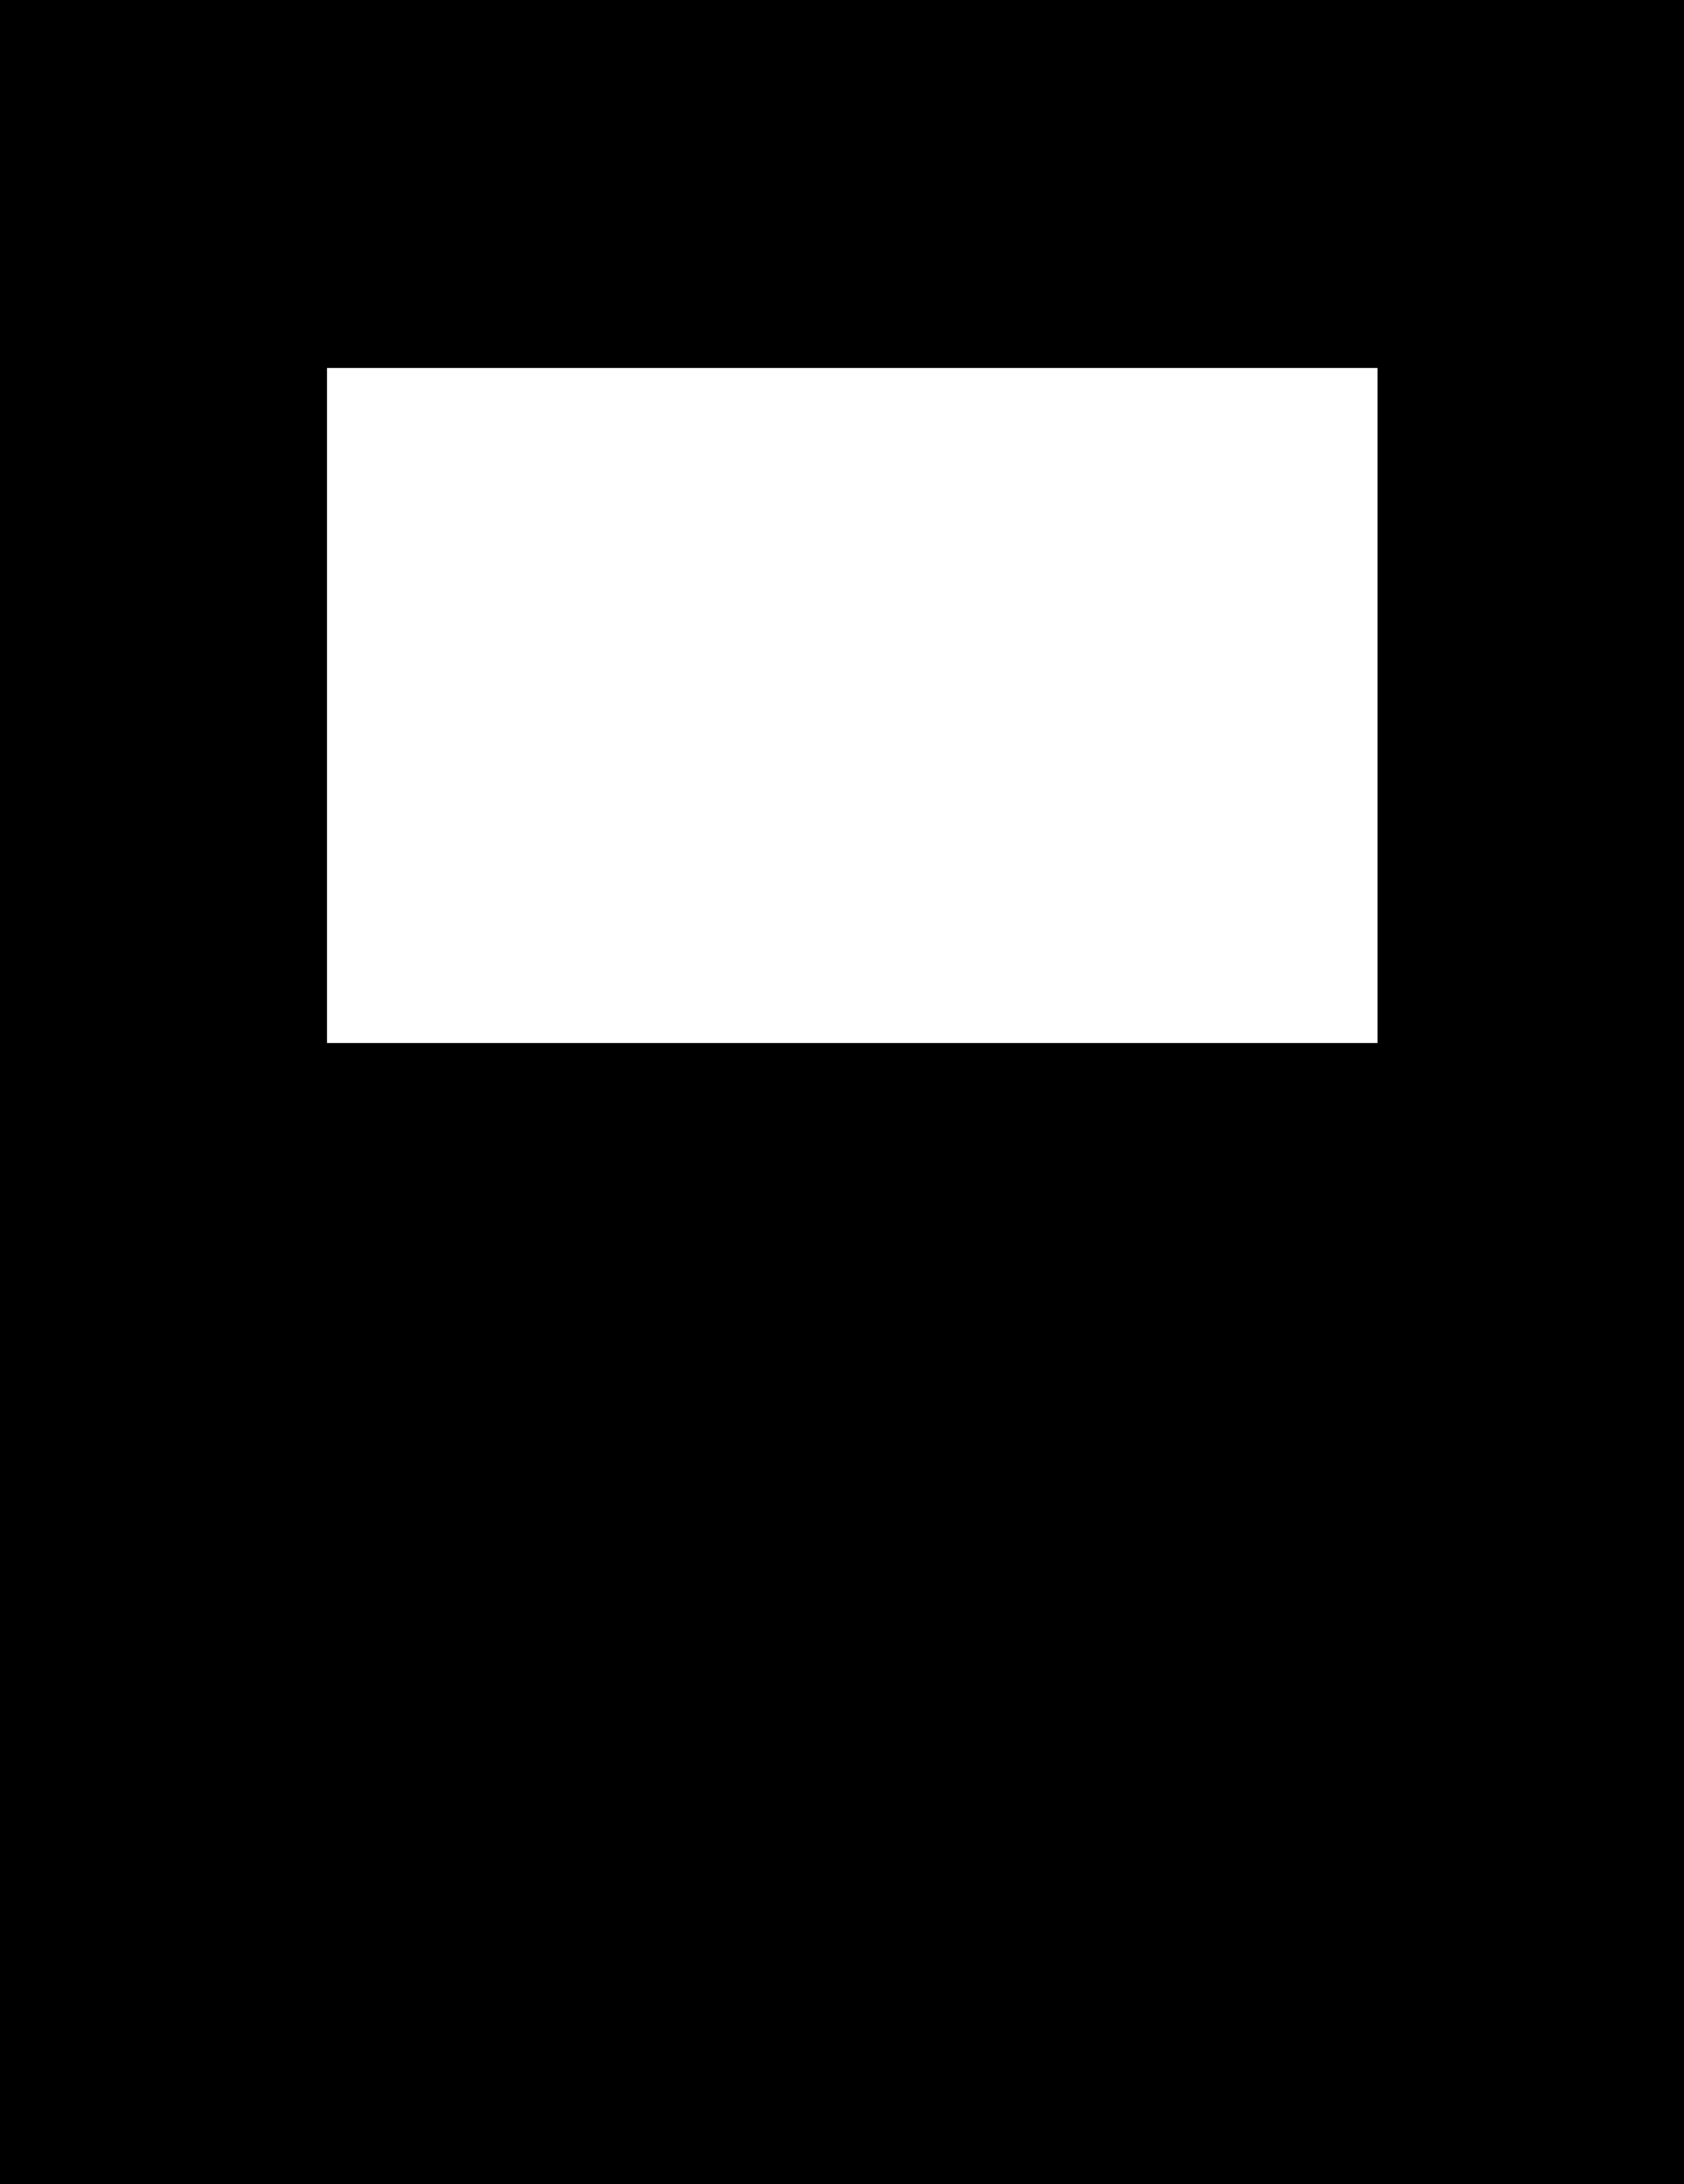table: (327, 368, 1376, 1042)
